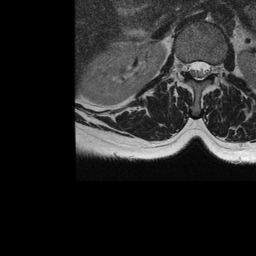CCS_normal: (195, 53, 203, 86)
LFS_normal: (211, 60, 218, 78)
LLS_normal: (203, 54, 211, 81)
RFS_normal: (180, 57, 187, 78)
RLS_normal: (187, 56, 195, 79)
